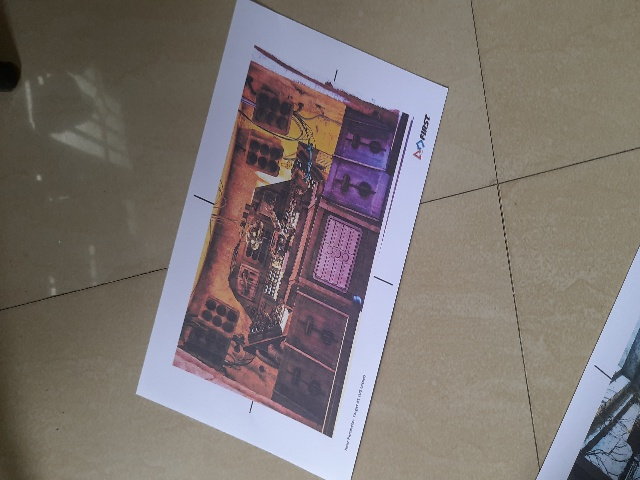rept1: (199, 37, 411, 446)
